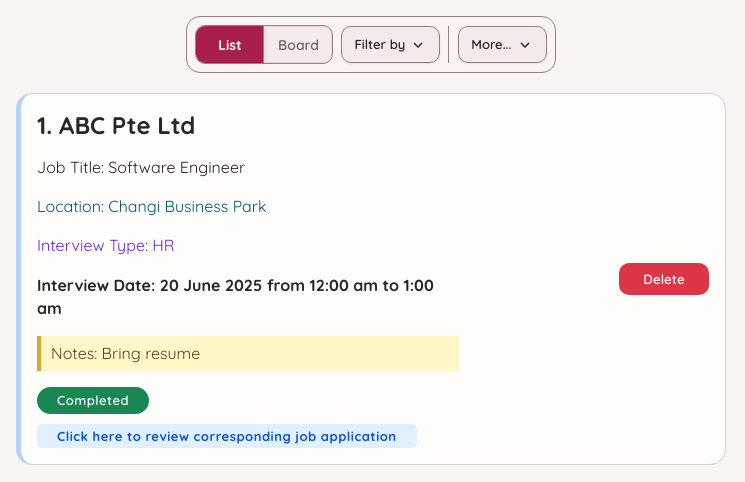
Test: Job interview viewer flow › displays job interview details and action buttons
Expected: the heading "1. ABC Pte Ltd" is shown, [37,110,195,140]
Expected: the text "Job Title: Software Engineer" is shown, [37,157,245,177]
Click the button "More..." at (502, 44), box [458,26,547,63]
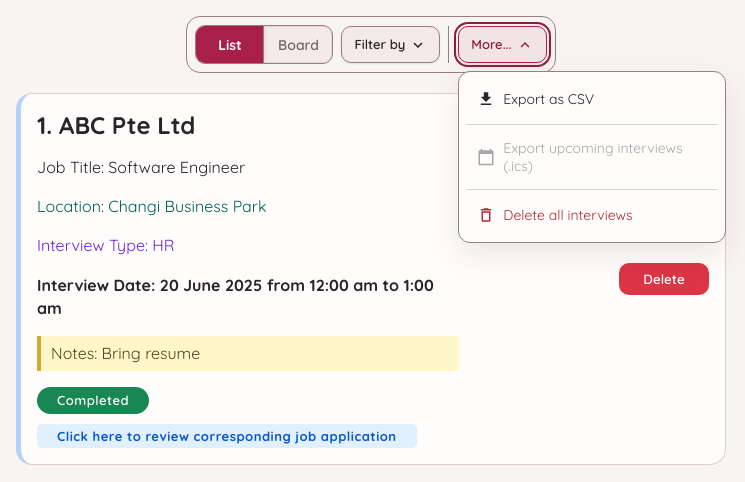
Now the button "Delete all interviews" is shown, box [467,196,717,234]
Now the link "Export as CSV" is shown, box [477,90,594,108]
